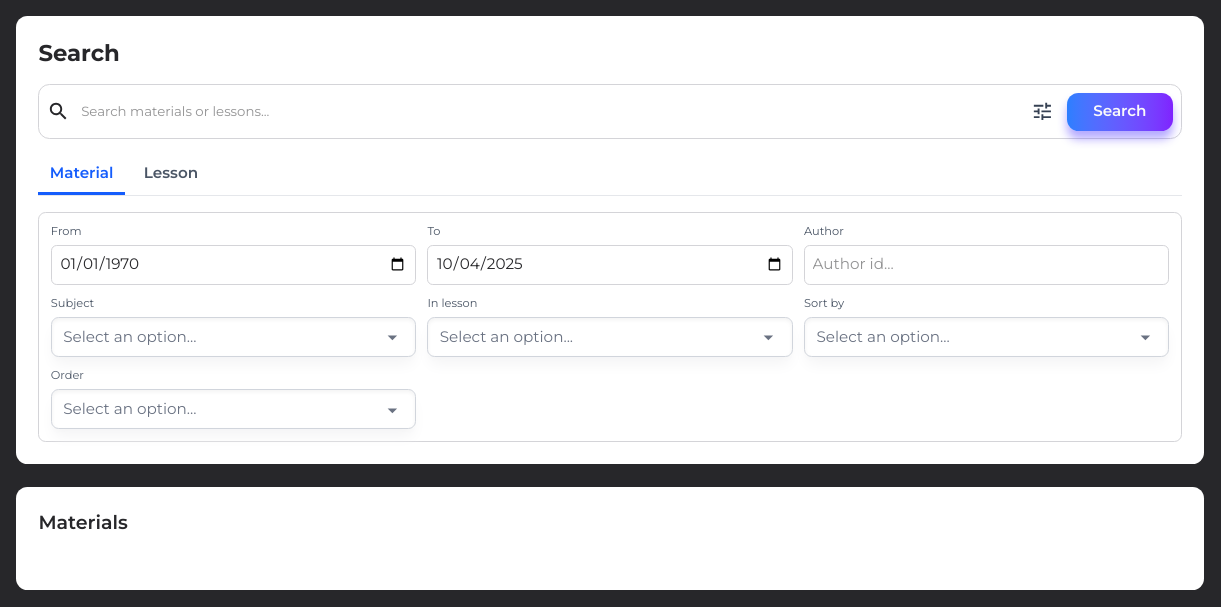
SearchPage Component › Tab Functionality › should switch to lessons tab when clicked
Click the button "Lesson" at point(171, 175), box [132,154,210,195]
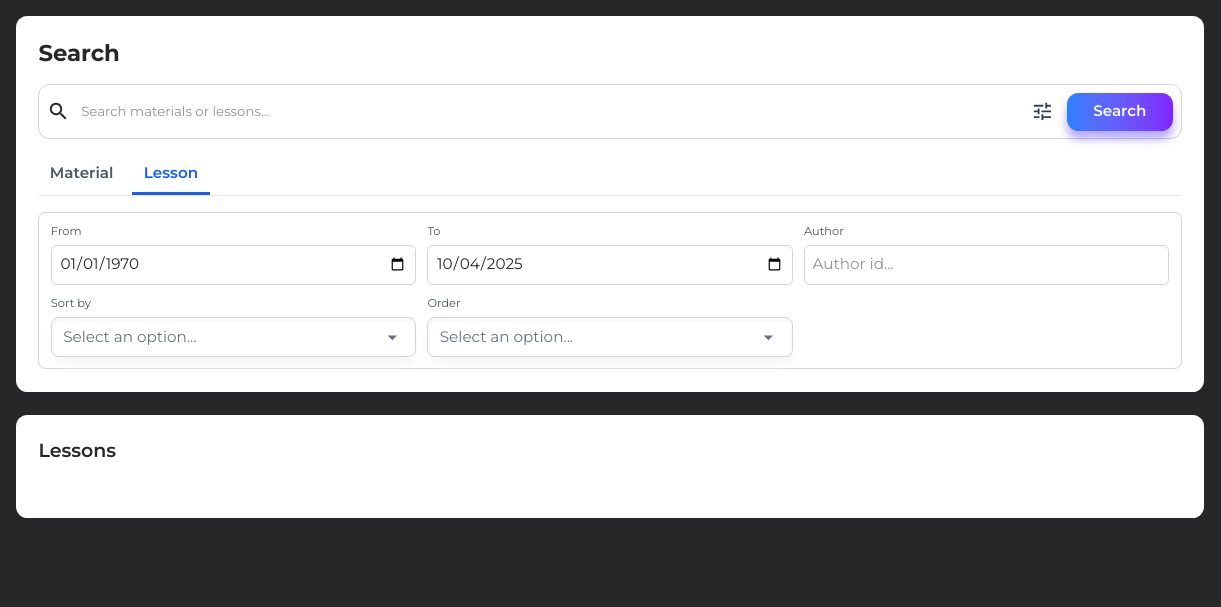
Now the heading "Lessons" is shown, box [38,439,116,462]
